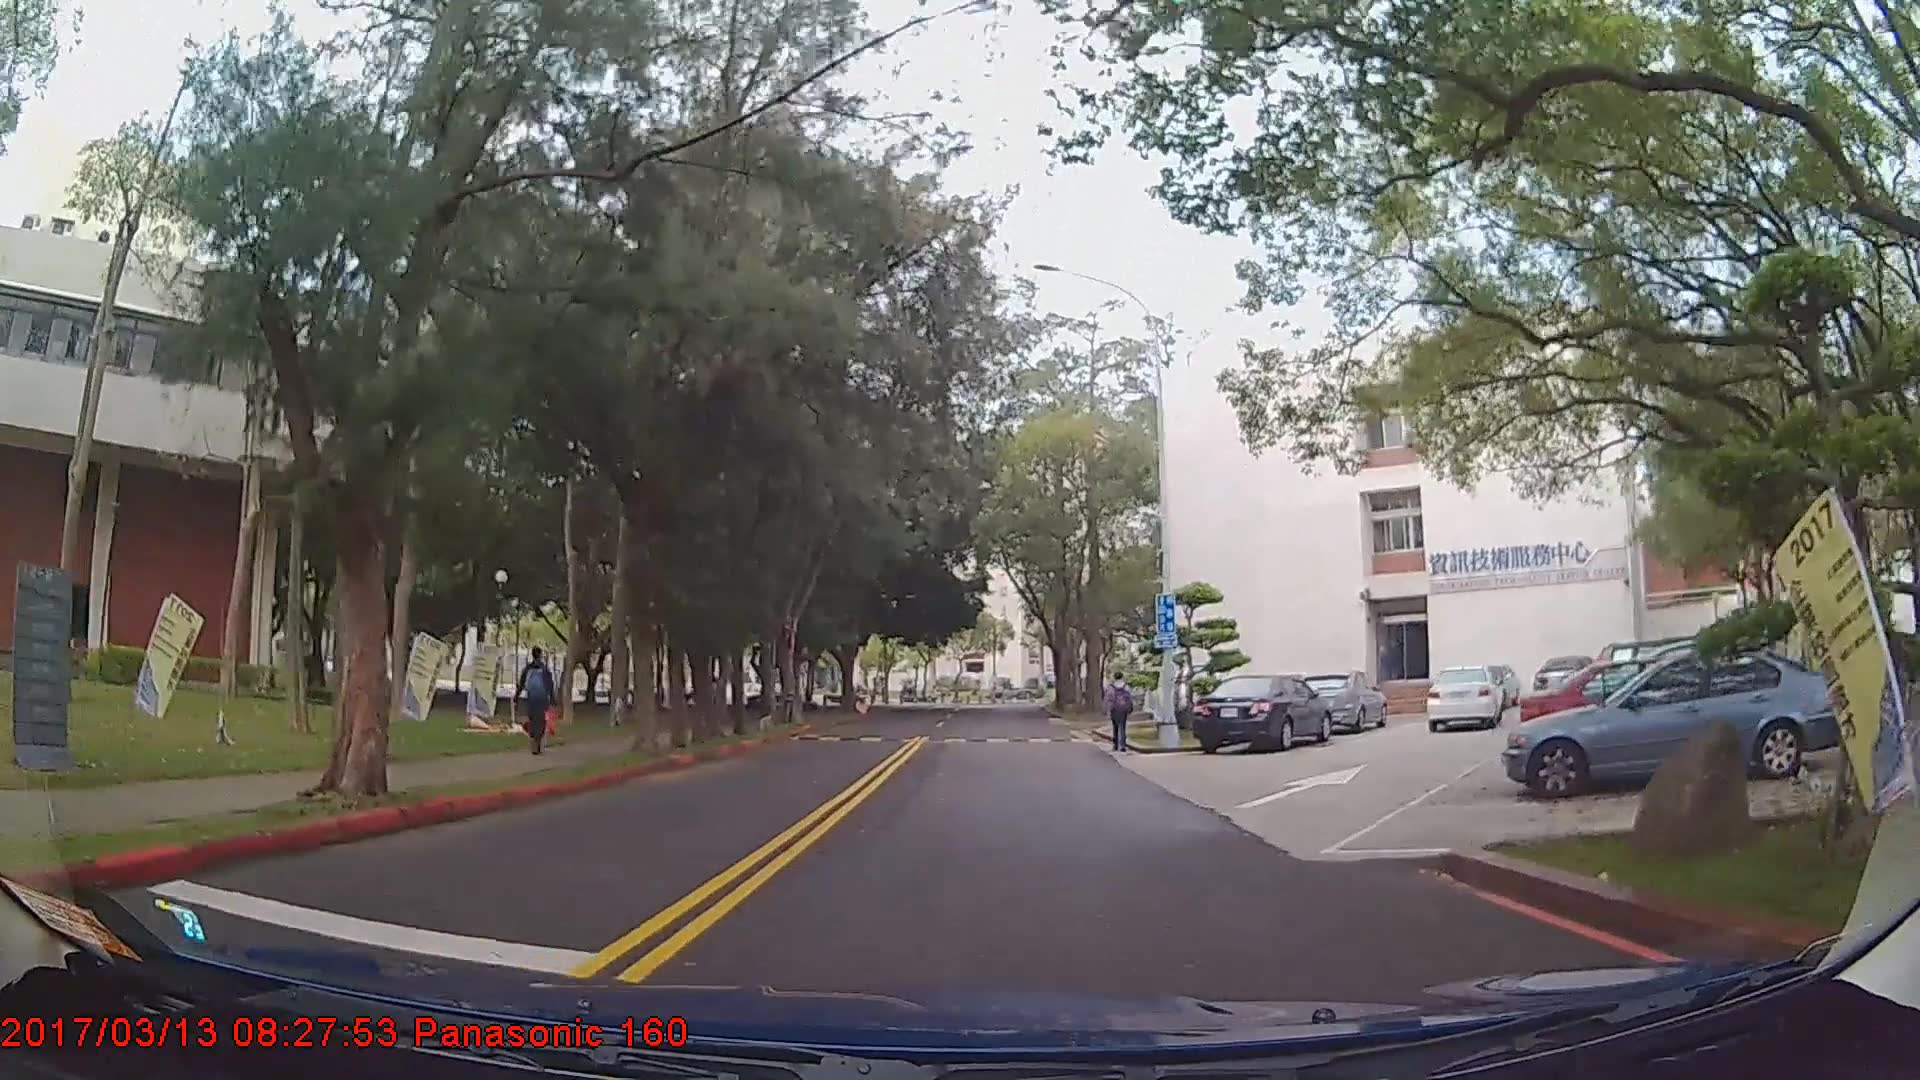pedestrian: (519, 646, 558, 758), (1105, 672, 1135, 755)
vehicle: (1503, 643, 1855, 799), (1191, 675, 1333, 757), (1296, 670, 1388, 733), (1422, 664, 1504, 732)
